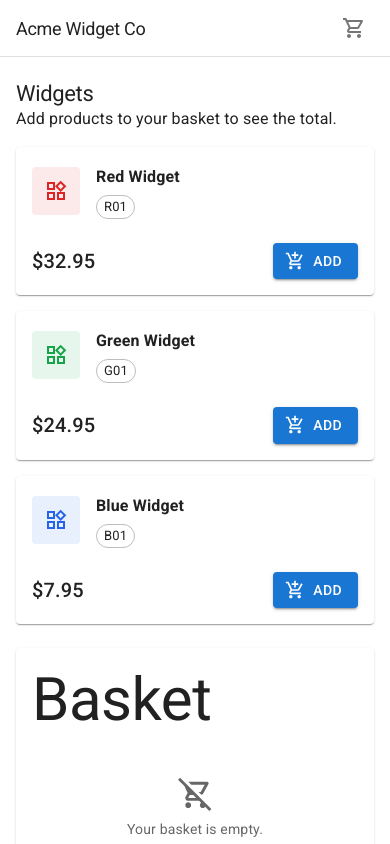
Scenario: BasketPage › shows a dash in the mobile bar while the total is loading
Click the button "Add" in the row of "$32.95": [316, 261] box [273, 243, 358, 279]
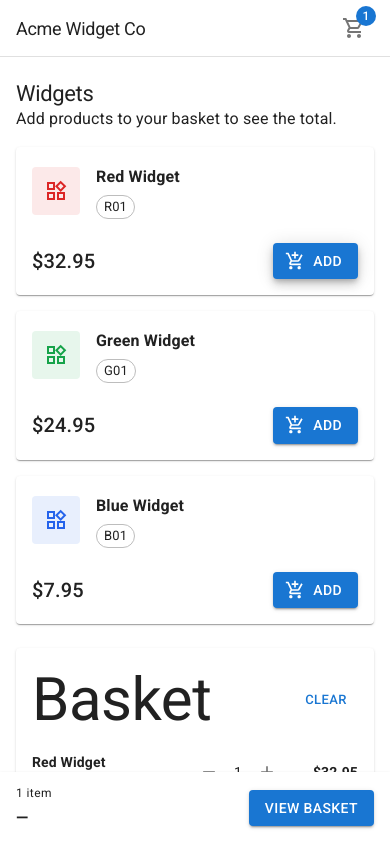
Expected: the heading "—" is shown, [16, 808, 28, 827]
